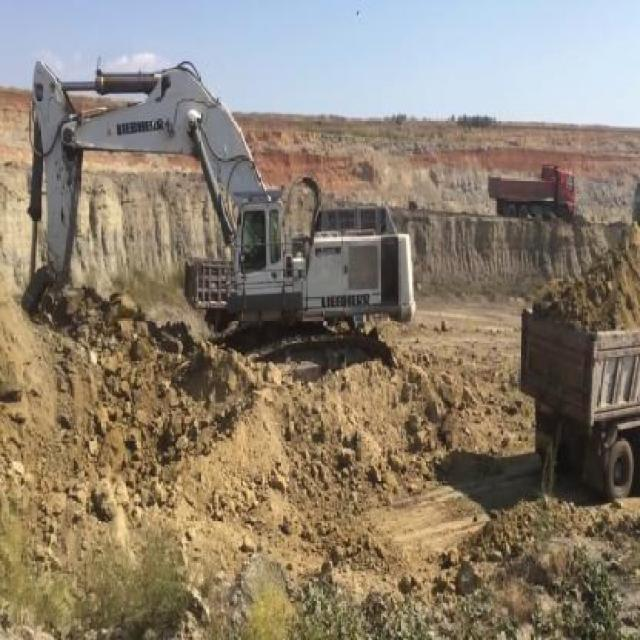Dump Truck: (518, 230, 639, 499), (490, 165, 576, 220)
Excavator: (21, 52, 416, 374)
